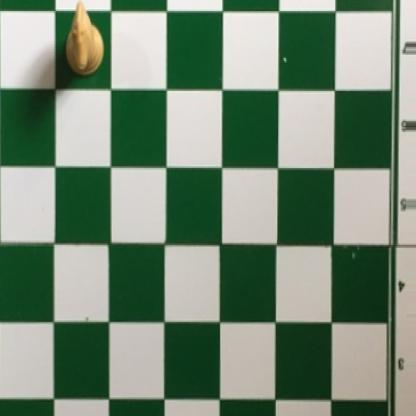white-knight: (63, 2, 105, 80)
